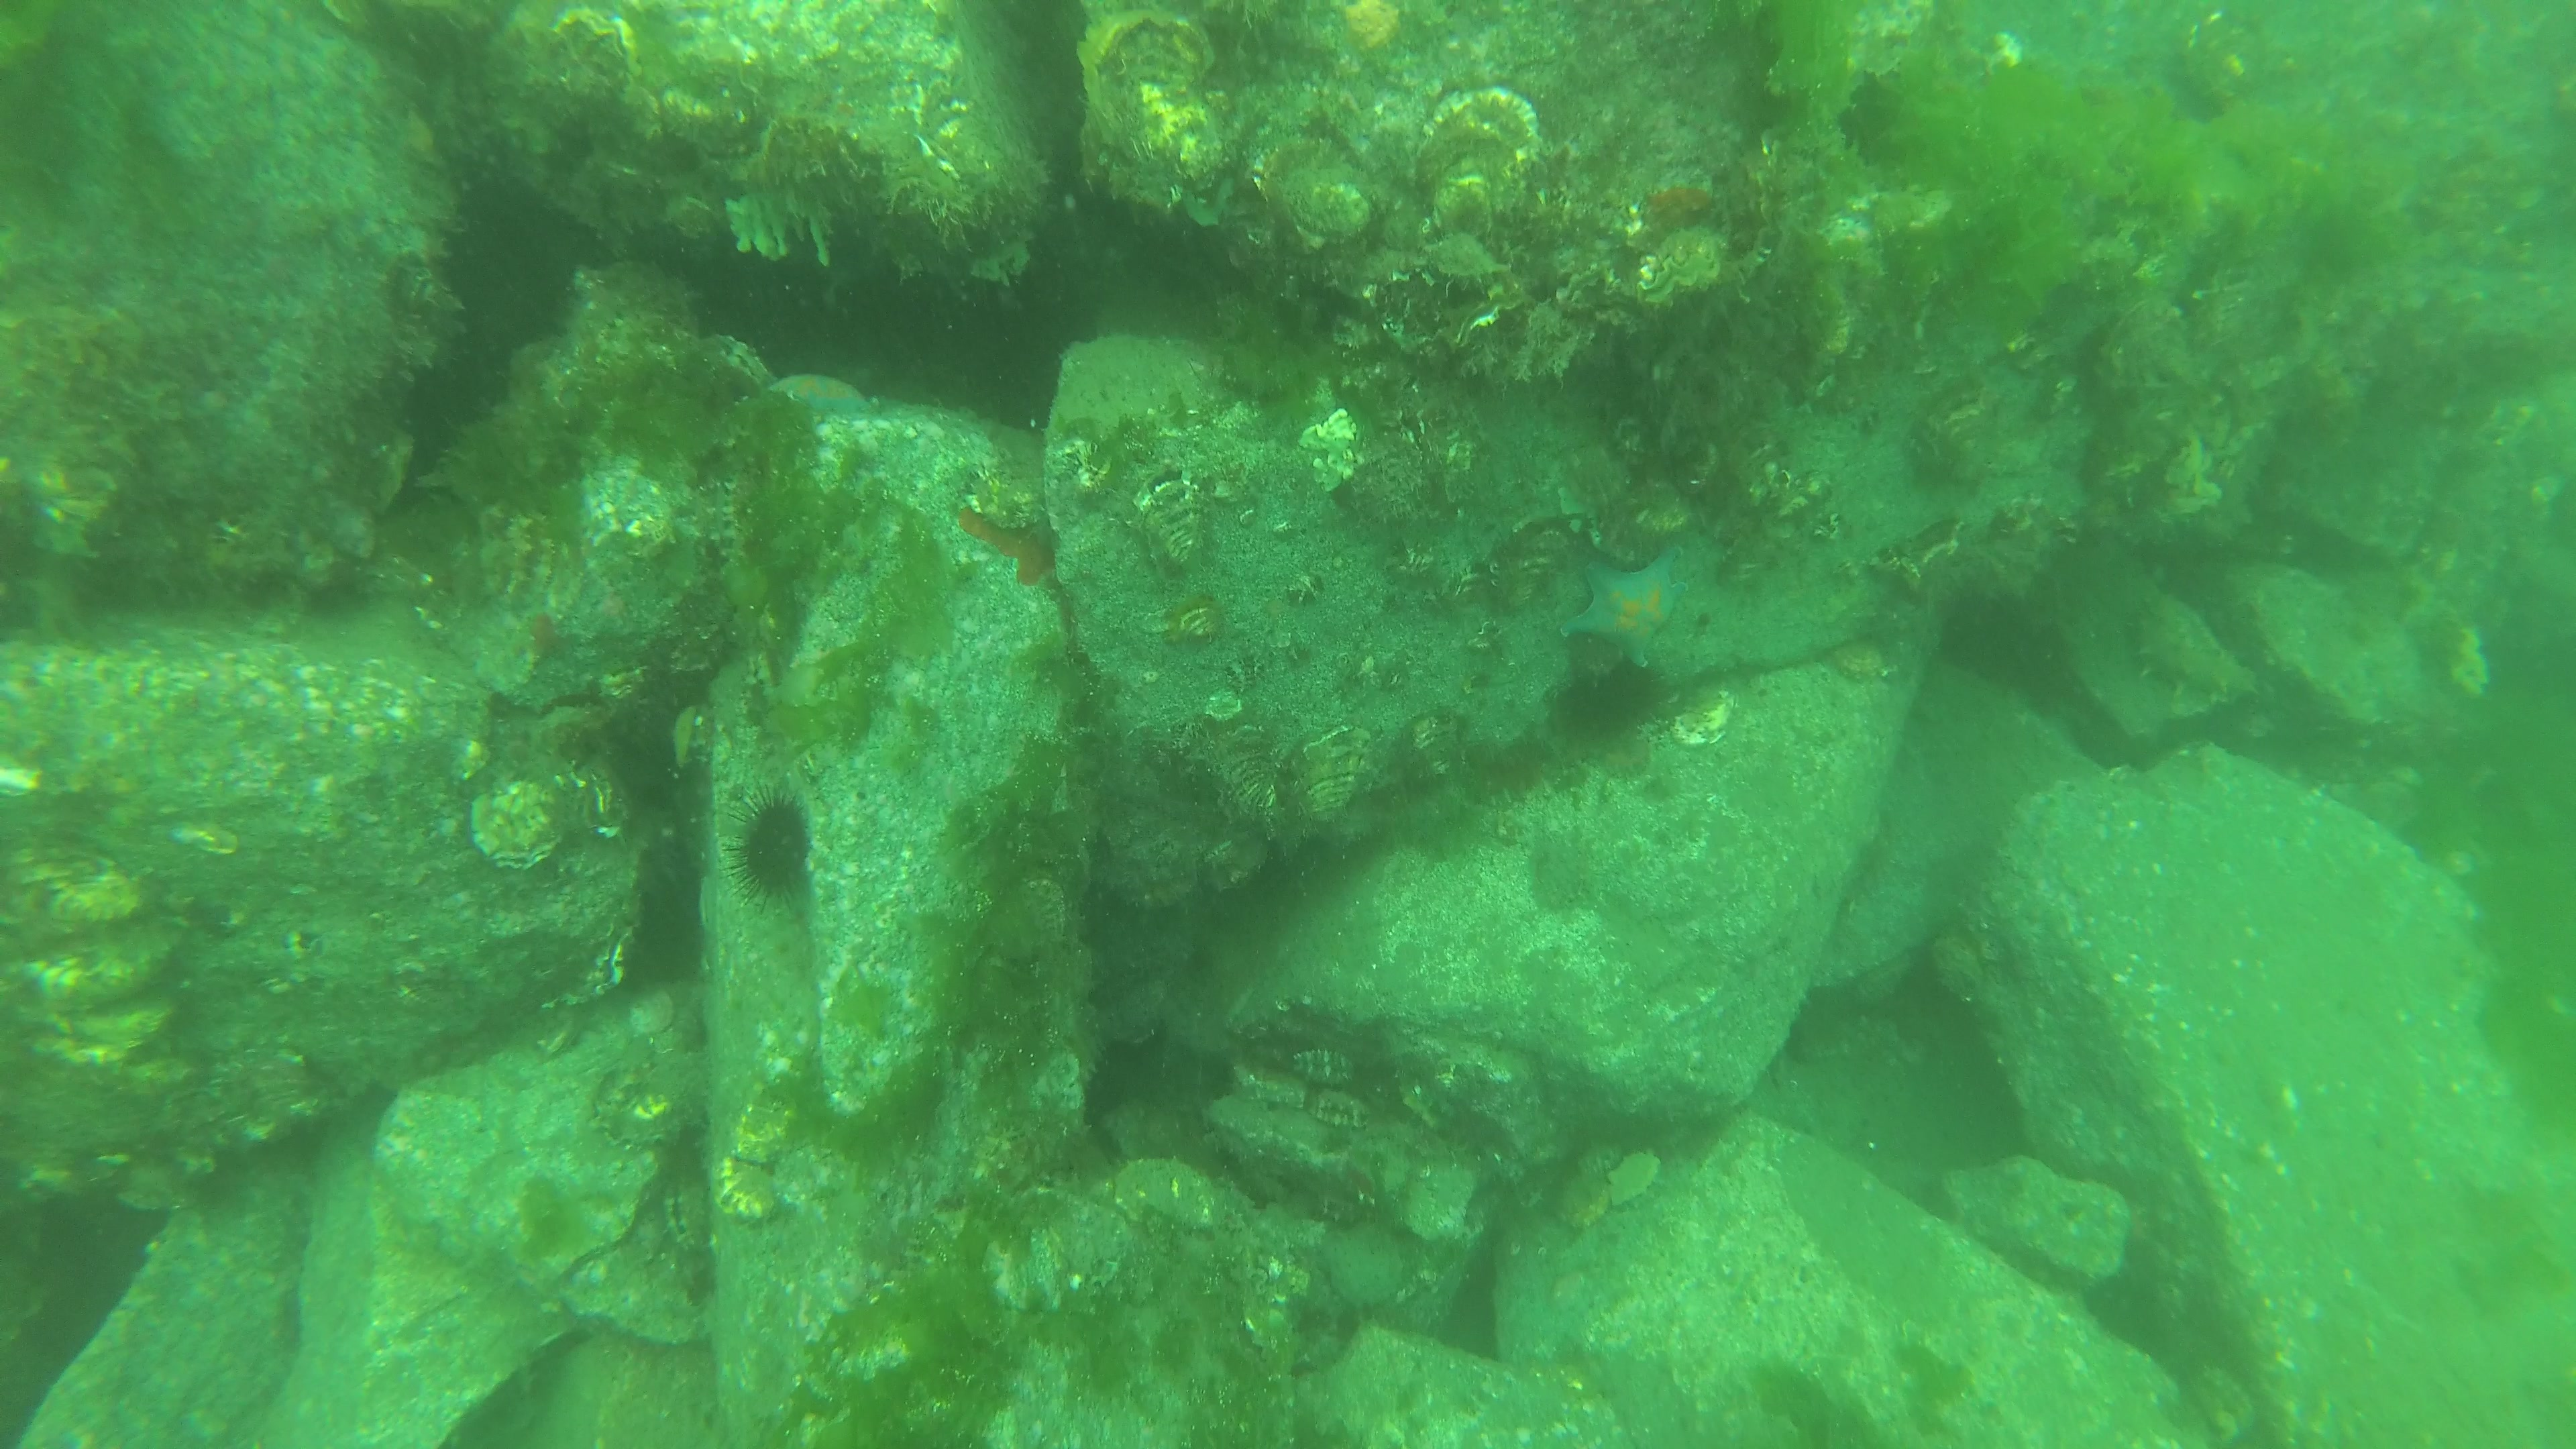echinus: (1546, 648, 1660, 752), (717, 786, 816, 901)
holothurian: (2121, 582, 2242, 713)
starfish: (1546, 545, 1697, 671)
